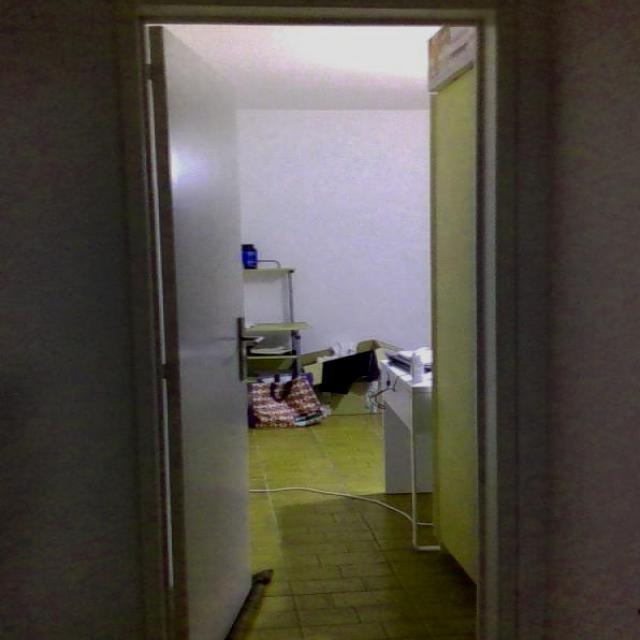door: (132, 20, 256, 640)
